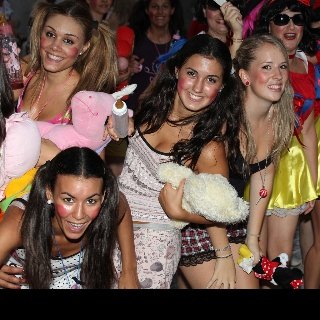without_mask: (53, 175, 104, 239), (177, 53, 222, 110), (41, 15, 85, 70), (249, 46, 287, 99)
